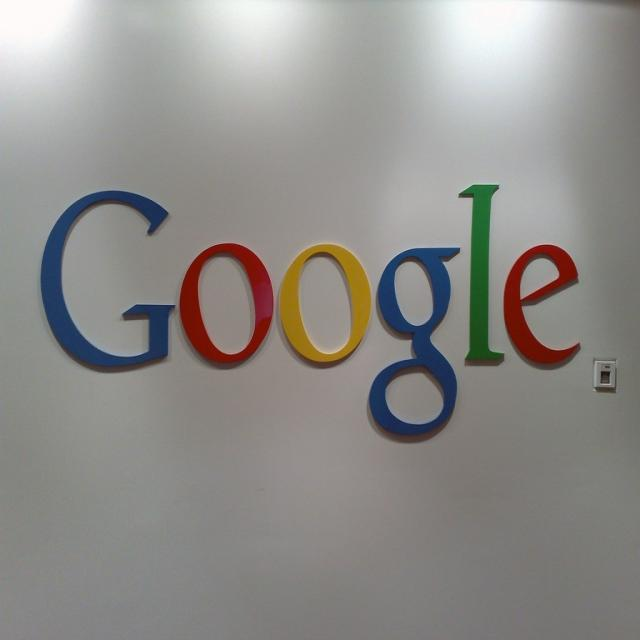google: (33, 166, 590, 451)
